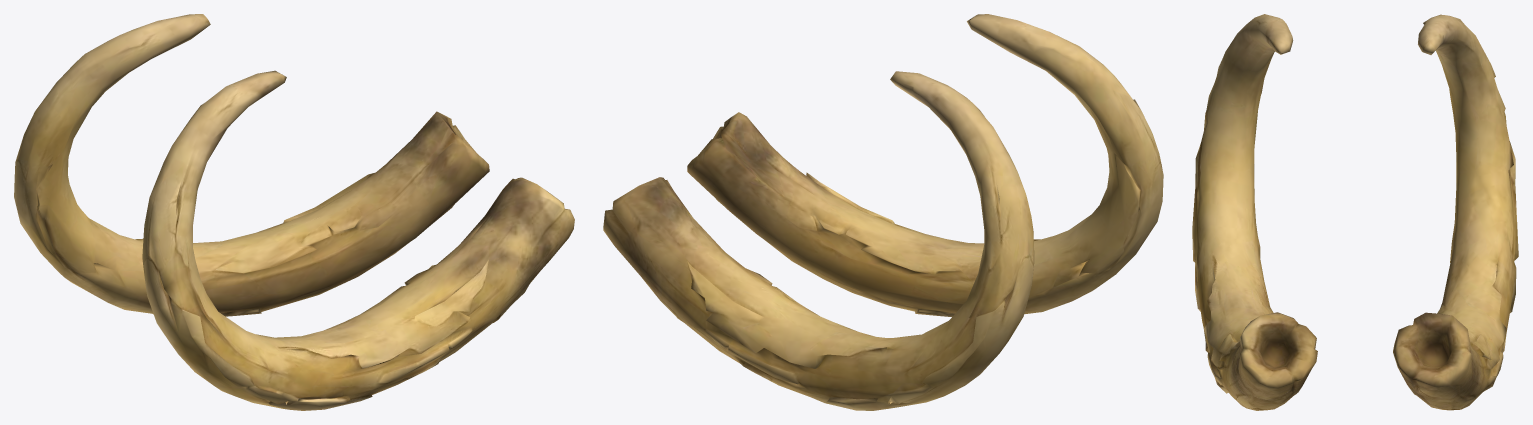
The model's file is mammoth_tusks.glb.
3 views of the same model, side by side, from view 1: azimuth 30°, elevation 25°; view 2: azimuth 150°, elevation 25°; view 3: azimuth 270°, elevation 25° (orthographic). The views are drawn at different scales.
Visible parts, largest first — view 1: tripo_node_de228482-8f84-486e-b1fe-6eb727ebc56c; view 2: tripo_node_de228482-8f84-486e-b1fe-6eb727ebc56c; view 3: tripo_node_de228482-8f84-486e-b1fe-6eb727ebc56c.
Part boxes in pixels (left/top/right/bottom): tripo_node_de228482-8f84-486e-b1fe-6eb727ebc56c: left=14, top=14, right=574, bottom=410; tripo_node_de228482-8f84-486e-b1fe-6eb727ebc56c: left=603, top=14, right=1163, bottom=410; tripo_node_de228482-8f84-486e-b1fe-6eb727ebc56c: left=1192, top=14, right=1518, bottom=410.
Size of the model in its own units: 0.981 by 0.6906 by 0.6526.
Materials: 1 (1 with a texture image).
